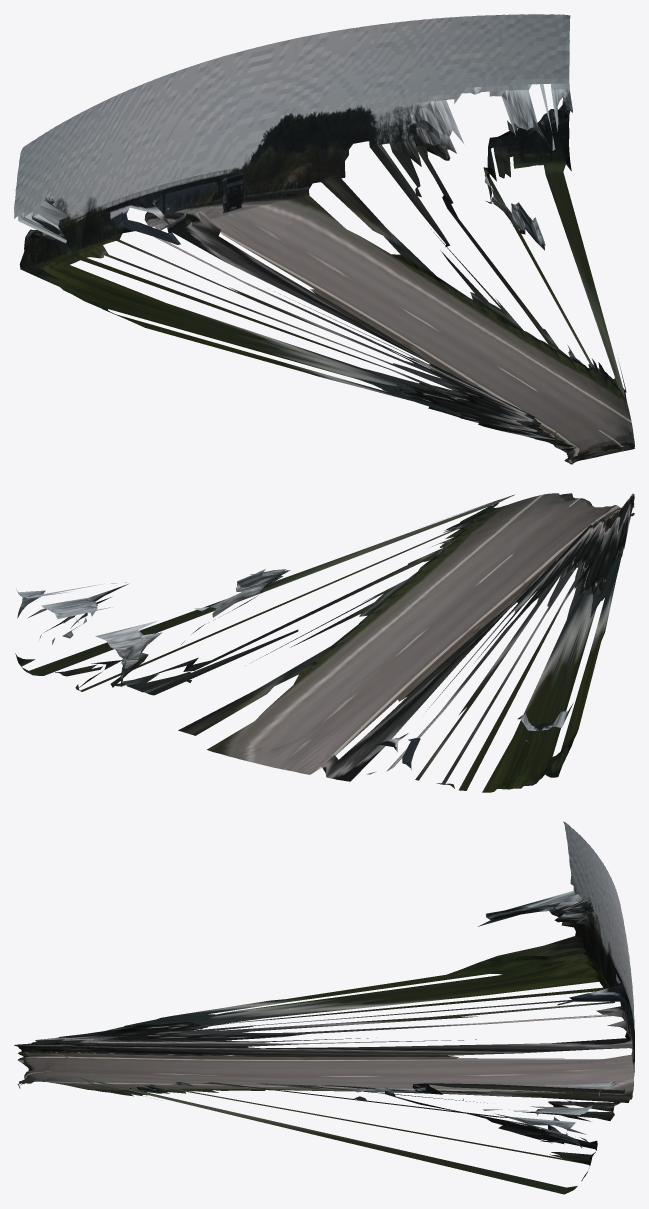
The picture shows the model from 3 angles, top to bottom: view 1: azimuth 30°, elevation 25°; view 2: azimuth 150°, elevation 25°; view 3: azimuth 270°, elevation 25°; orthographic projection. The views are drawn at different scales.
Parts seen in each view (by area): view 1: defaultobject; view 2: defaultobject; view 3: defaultobject.
Boxes of the visible parts, x1,y1,x2,y2 form: defaultobject: [14, 14, 634, 464]; defaultobject: [15, 493, 634, 792]; defaultobject: [14, 821, 634, 1194].
Bounding box in the file's own units: 41.08 × 11.97 × 44.73.
1 material, 1 textured.
